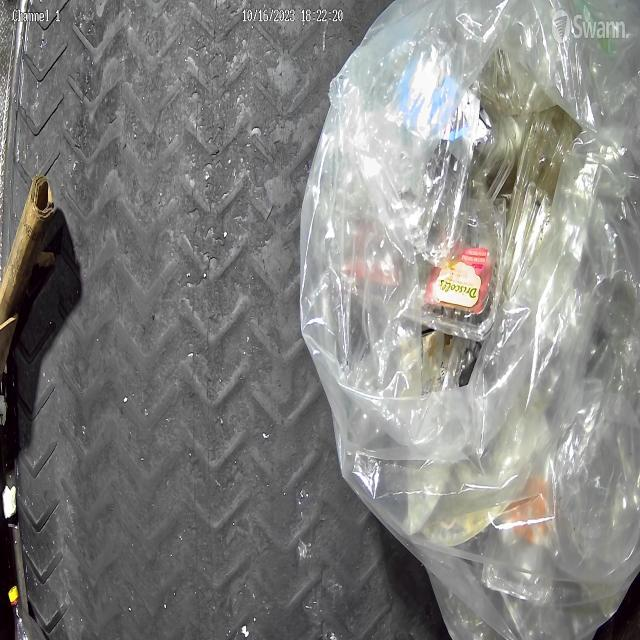plastic_bottle: (8, 587, 48, 640)
